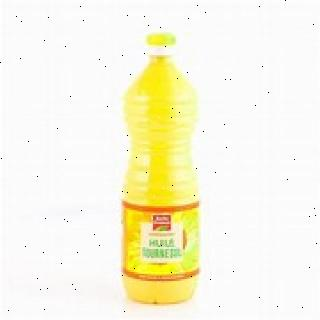Plastic-bottle: (119, 28, 209, 307)
